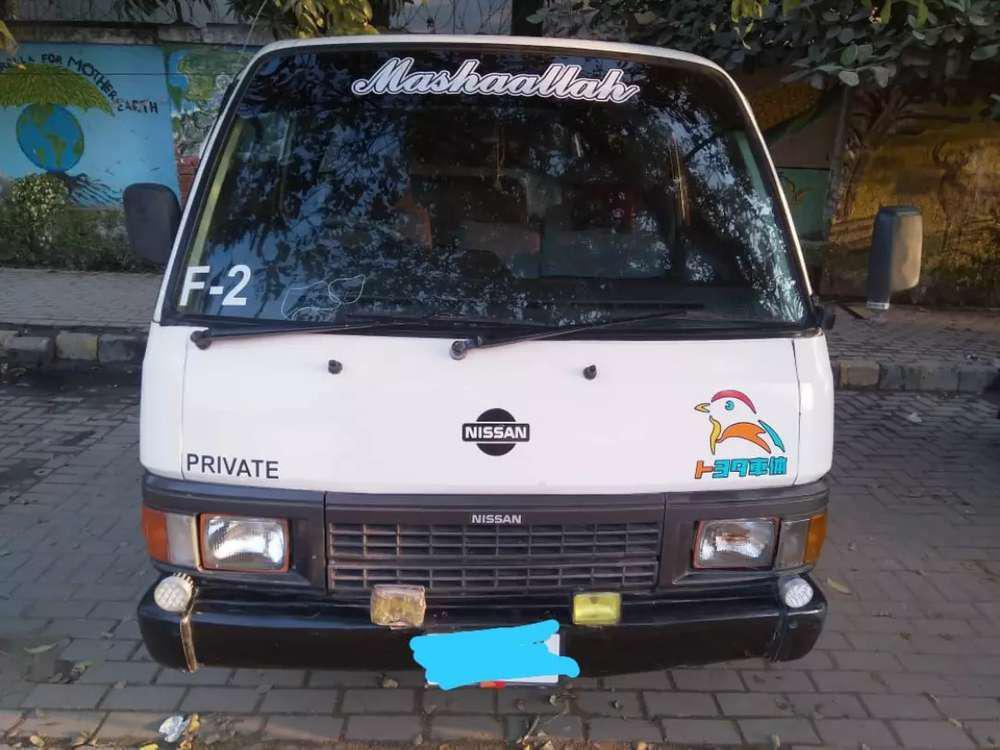Van: (131, 32, 850, 674)
